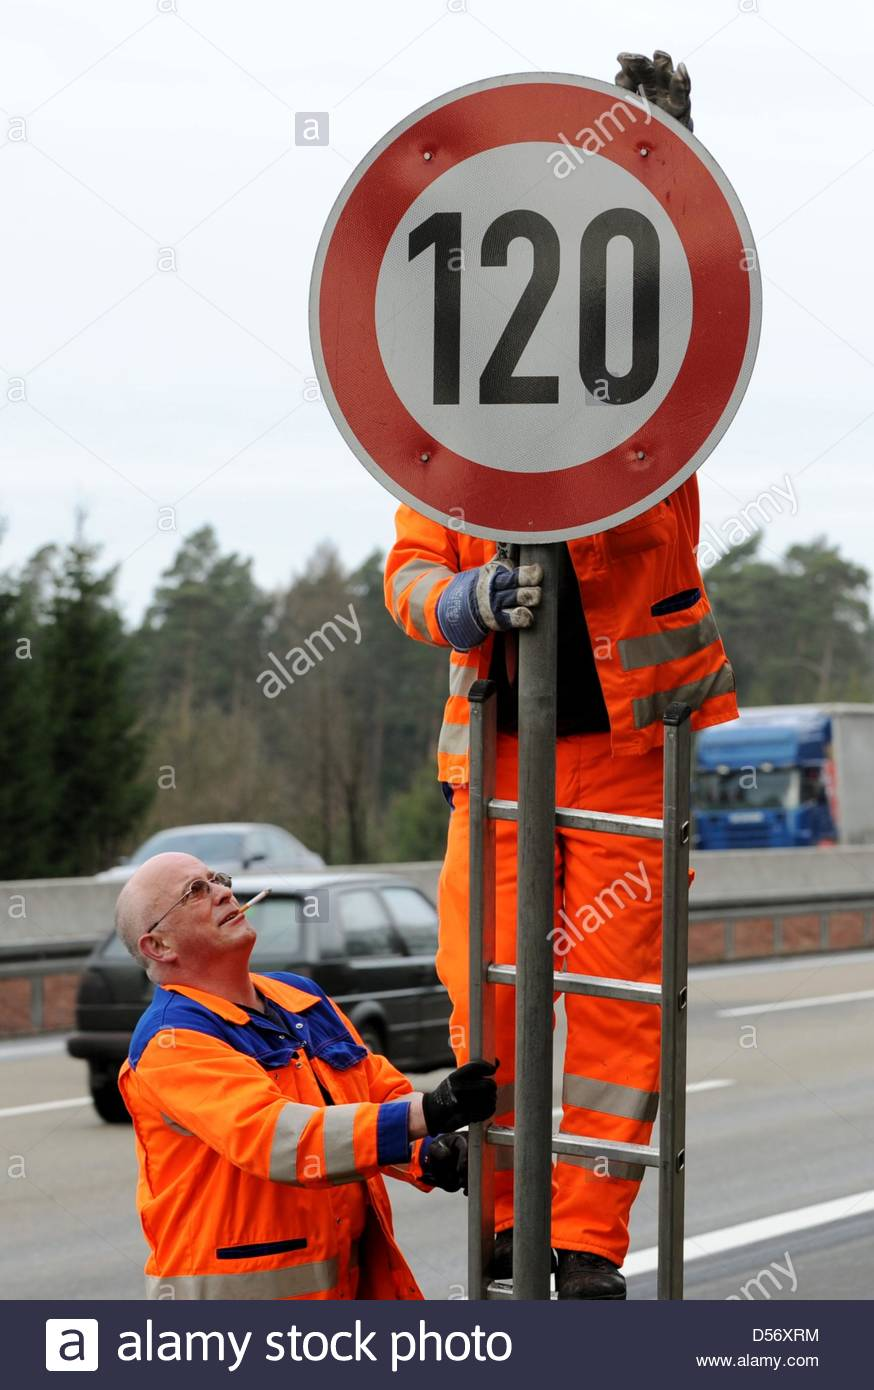Speed_limit_120km: (302, 68, 762, 546)
